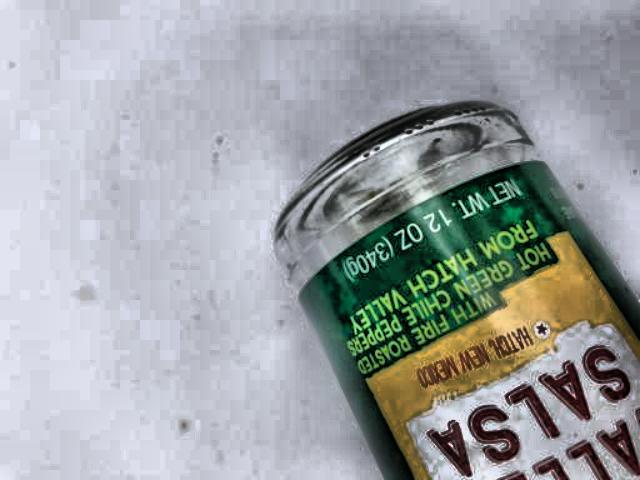Almennt: (288, 88, 640, 480)
